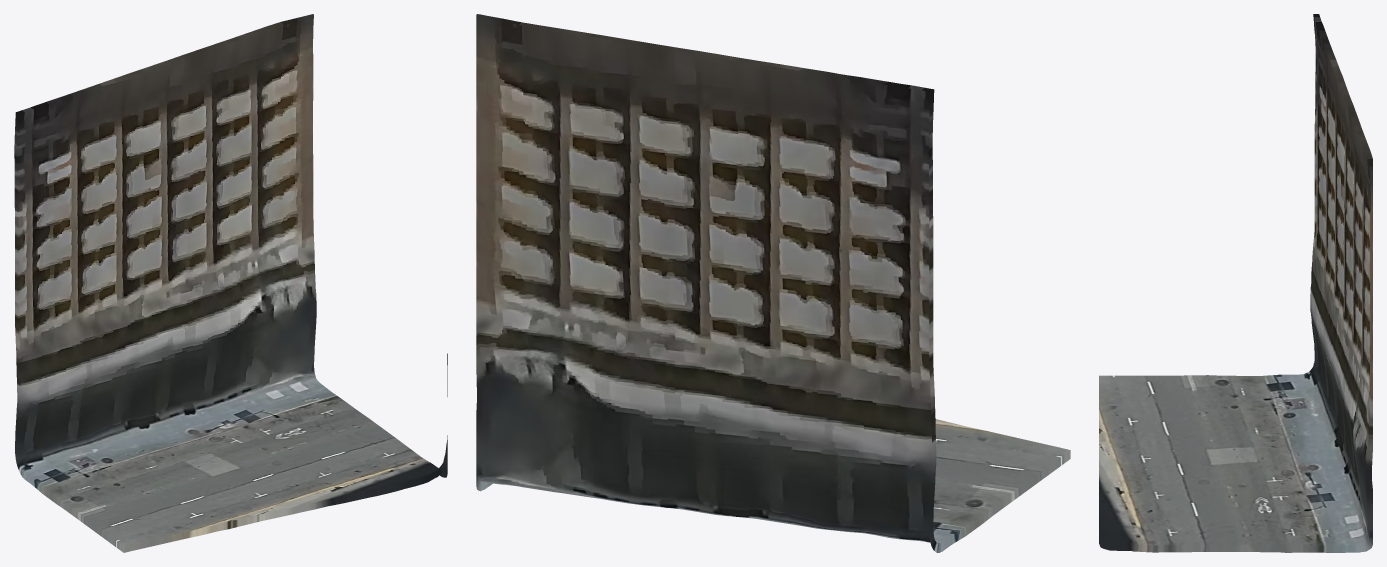
Rendered from z20-167769-405235-h0-yup-uvflip-v3-world.glb.
The picture shows the model from 3 angles, left to right: view 1: azimuth 30°, elevation 25°; view 2: azimuth 150°, elevation 25°; view 3: azimuth 270°, elevation 25°; orthographic projection. The views are drawn at different scales.
Size of the model in its own units: 30.16 by 33.04 by 21.68.
1 material, 1 textured.
